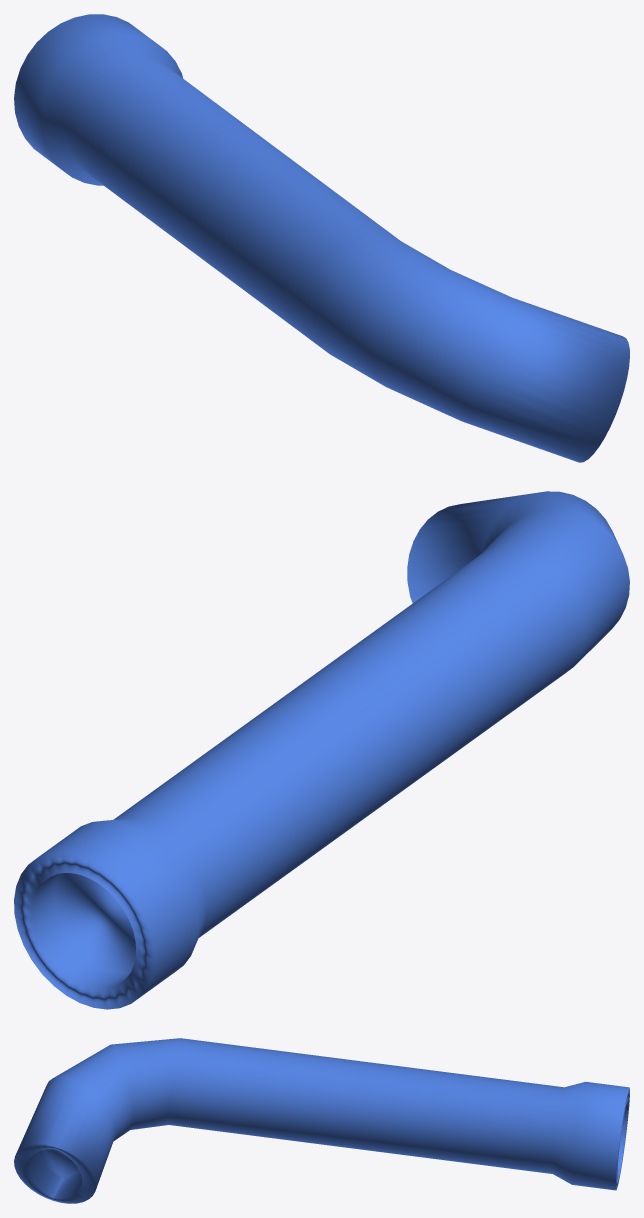
Rendered from machine_part5.glb.
The picture shows the model from 3 angles, top to bottom: view 1: azimuth 30°, elevation 25°; view 2: azimuth 150°, elevation 25°; view 3: azimuth 270°, elevation 25°; orthographic projection. The views are drawn at different scales.
Parts seen in each view (by area): view 1: maquina_part5; view 2: maquina_part5; view 3: maquina_part5.
Boxes of the visible parts, bbox=[...] form: maquina_part5: bbox=[14, 14, 629, 462]; maquina_part5: bbox=[14, 491, 629, 1009]; maquina_part5: bbox=[14, 1038, 629, 1203].
Size of what is drawn, in the model's own units: 1.99 by 1.54 by 6.92.
